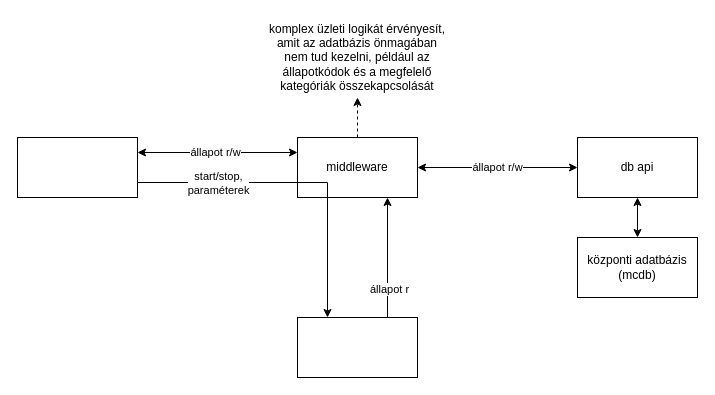
Image size: 715x395. Some labels were removed from this diagram. The centre of each missing label's shape, as x and y in pixels:
"dashboard" belongs at pixel 77 167.
"szimuláció" belongs at pixel 357 347.
